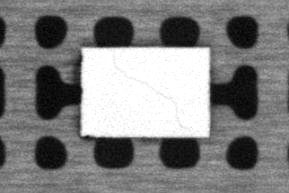DIE_CRACK: (109, 51, 192, 131)
